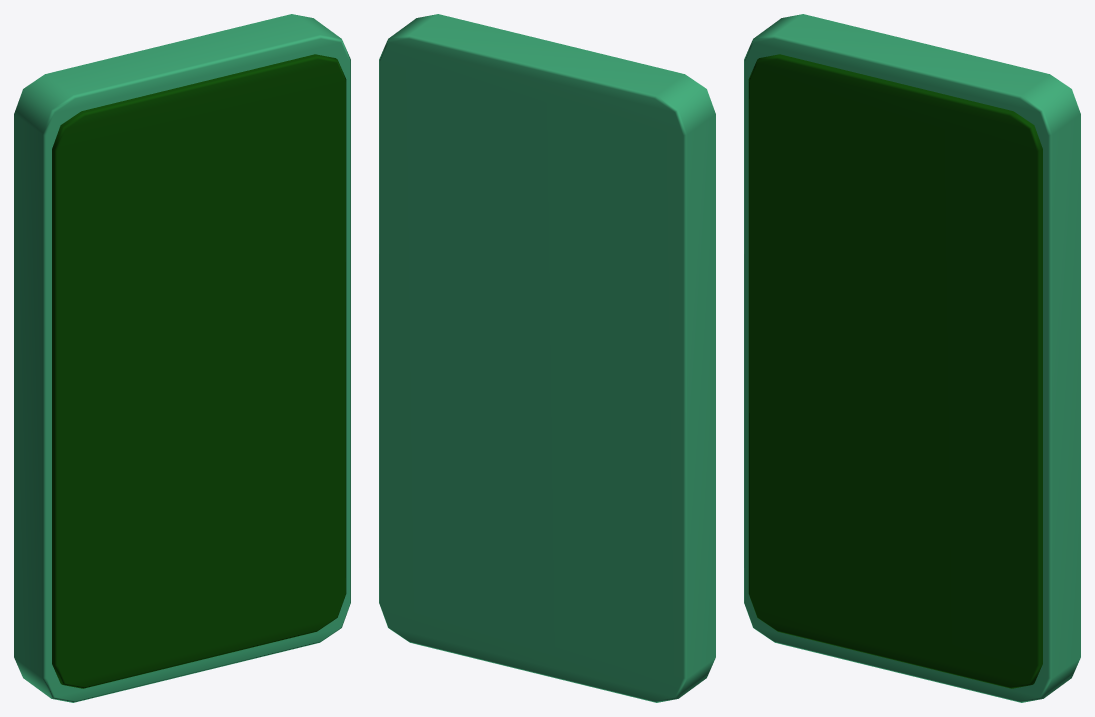
File: Phone FBX.fbx
3 views of the same model, side by side, from view 1: azimuth 30°, elevation 25°; view 2: azimuth 150°, elevation 25°; view 3: azimuth 330°, elevation 25° (orthographic).
Visible parts, largest first — view 1: Phone_Screen, Phone_Body; view 2: Phone_Body; view 3: Phone_Screen, Phone_Body.
Part boxes in pixels (left/top/right/bottom): Phone_Screen: left=52, top=54, right=346, bottom=688; Phone_Body: left=14, top=14, right=350, bottom=702; Phone_Body: left=379, top=14, right=715, bottom=702; Phone_Screen: left=748, top=54, right=1042, bottom=688; Phone_Body: left=744, top=14, right=1080, bottom=702.
Bounding box in the file's own units: 6.43 × 12.11 × 1.25.
